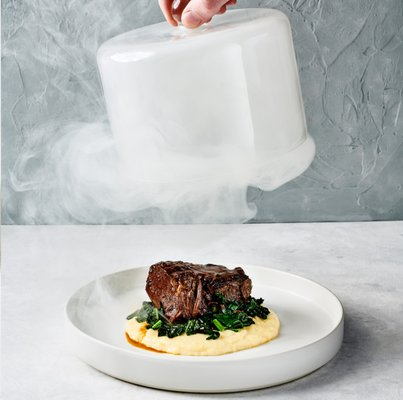soup: (123, 261, 282, 357)
